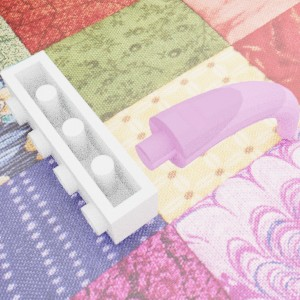lego: (0, 50, 158, 244), (134, 80, 299, 171)
